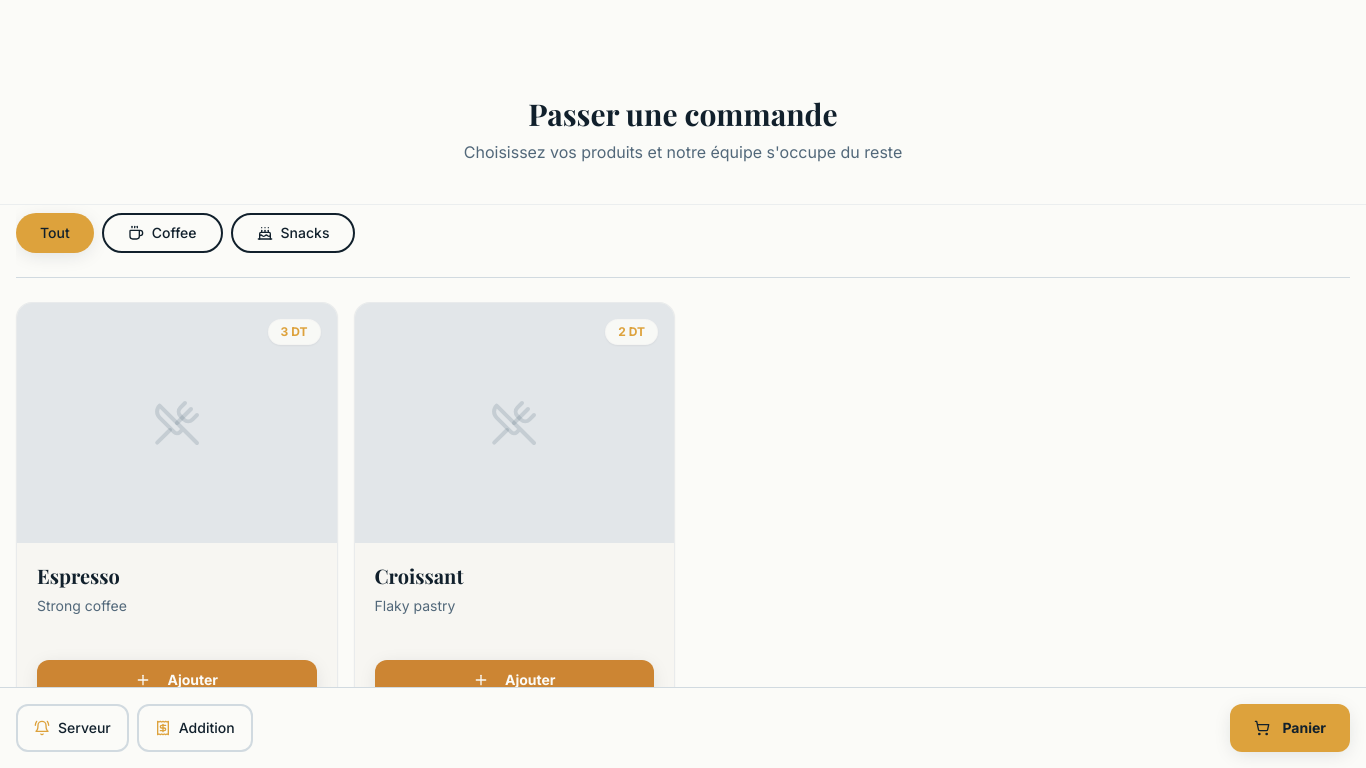
Scenario: CafeOrder Component › filters items by category
The width and height of the screenshot is (1366, 768).
expect the heading "Espresso" is shown: met, box [37,562,120,589]
Click on Snacks category
Click the button "Snacks" at x=293, y=233, box [231,213,356,253]
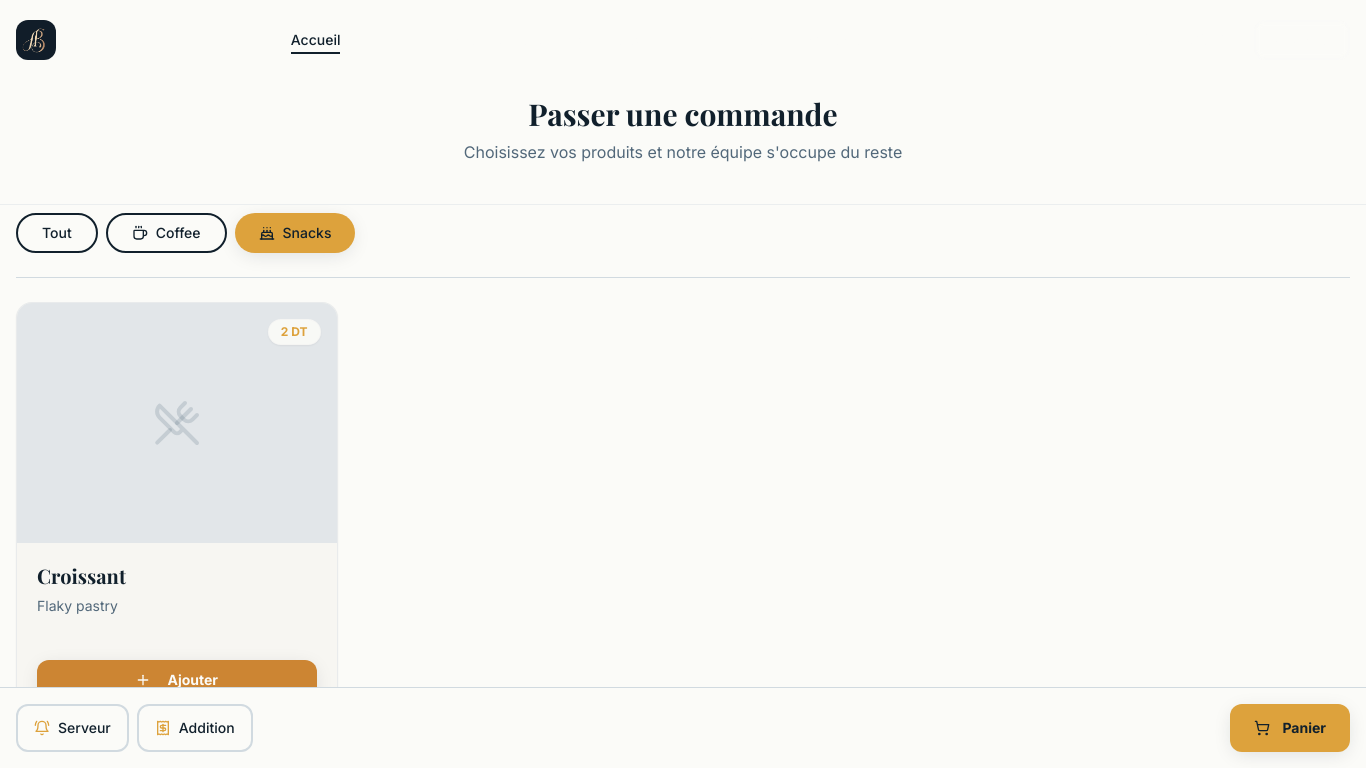
expect the heading "Croissant" is shown: met, box [37,562,126,589]
expect the heading "Espresso" is gone: met
